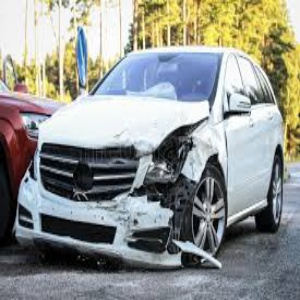bonnet: (146, 53, 247, 115)
bumper: (152, 144, 253, 228)
